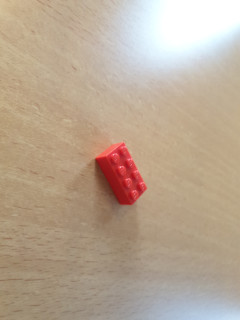2x4 red: (91, 142, 151, 206)
